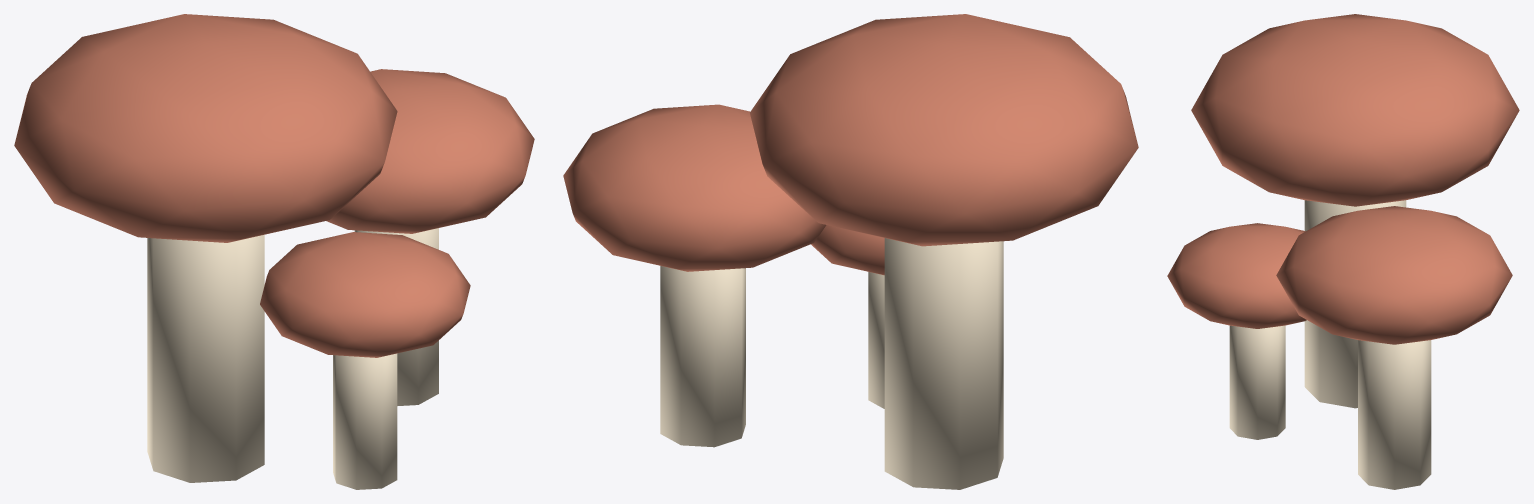
Rendered from mushroom_patch.glb.
3 views of the same model, side by side, from view 1: azimuth 30°, elevation 25°; view 2: azimuth 150°, elevation 25°; view 3: azimuth 270°, elevation 25° (orthographic). The views are drawn at different scales.
Visible parts, largest first — view 1: Cap0, Stem0, Cap1, Cap2, Stem2, Stem1; view 2: Cap0, Cap1, Stem0, Stem1, Cap2, Stem2; view 3: Cap0, Cap1, Stem1, Cap2, Stem2, Stem0.
Boxes of the visible parts, box(x1,y1,x2,y2) form: Cap0: box(14, 14, 397, 242); Stem0: box(147, 234, 264, 482); Cap1: box(326, 69, 534, 233); Cap2: box(260, 232, 470, 357); Stem2: box(333, 353, 397, 489); Stem1: box(354, 228, 438, 405); Cap0: box(750, 14, 1138, 246); Cap1: box(563, 104, 826, 271); Stem0: box(884, 238, 1003, 489); Stem1: box(660, 266, 745, 447); Cap2: box(811, 225, 884, 275); Stem2: box(868, 272, 884, 408); Cap0: box(1191, 14, 1519, 206); Cap1: box(1276, 206, 1512, 344); Stem1: box(1358, 340, 1431, 489); Cap2: box(1167, 223, 1306, 328); Stem2: box(1229, 325, 1285, 439); Stem0: box(1304, 200, 1406, 408).
Size of the model in its own units: 1.22 by 0.98 by 0.901.
